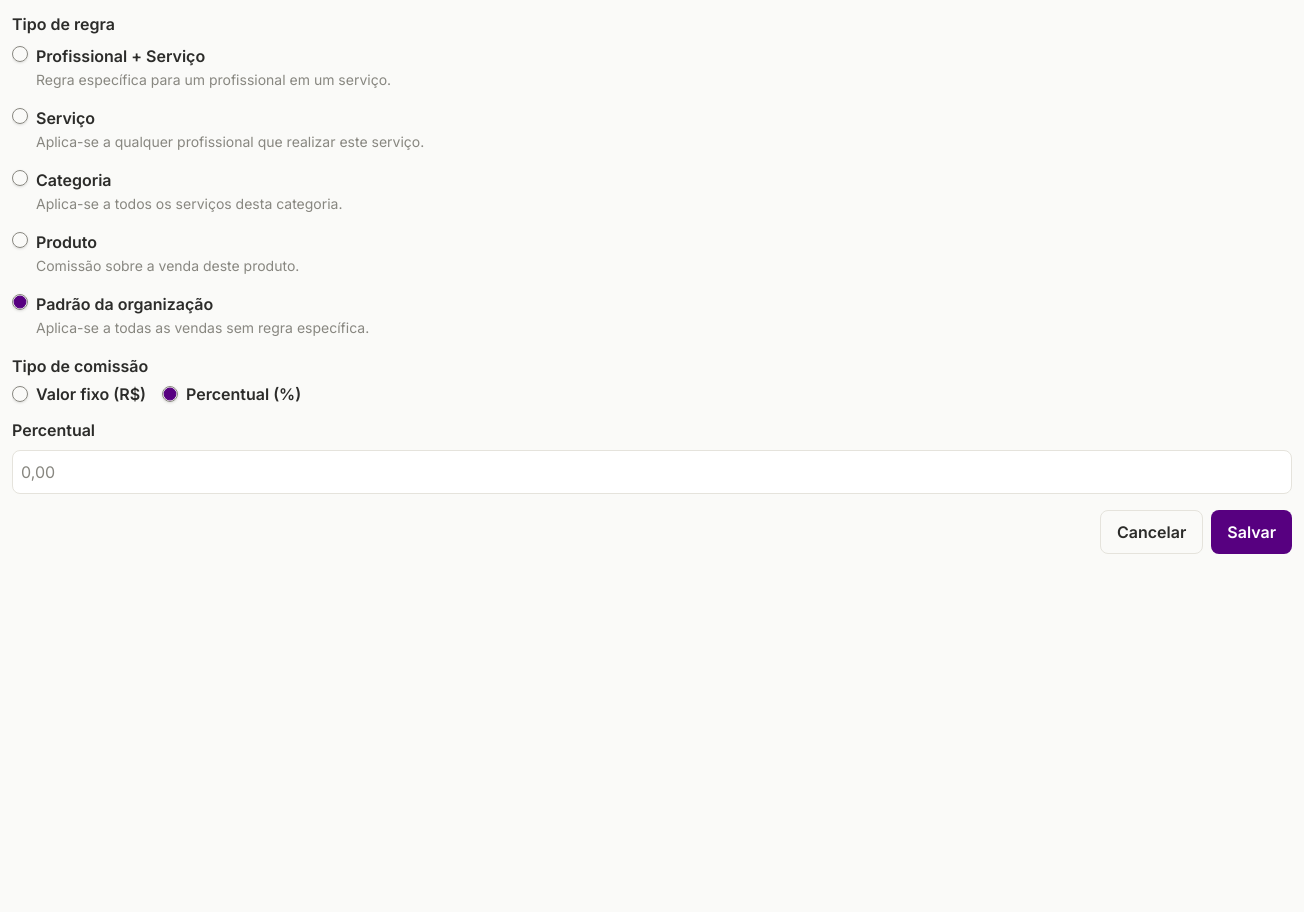
Test: CommissionRuleForm › 4. selecting scope category — category select appears
This screenshot has width=1304, height=912.
Click the 3rd radio button named "categoria" at (20, 178), box [12,170,28,186]
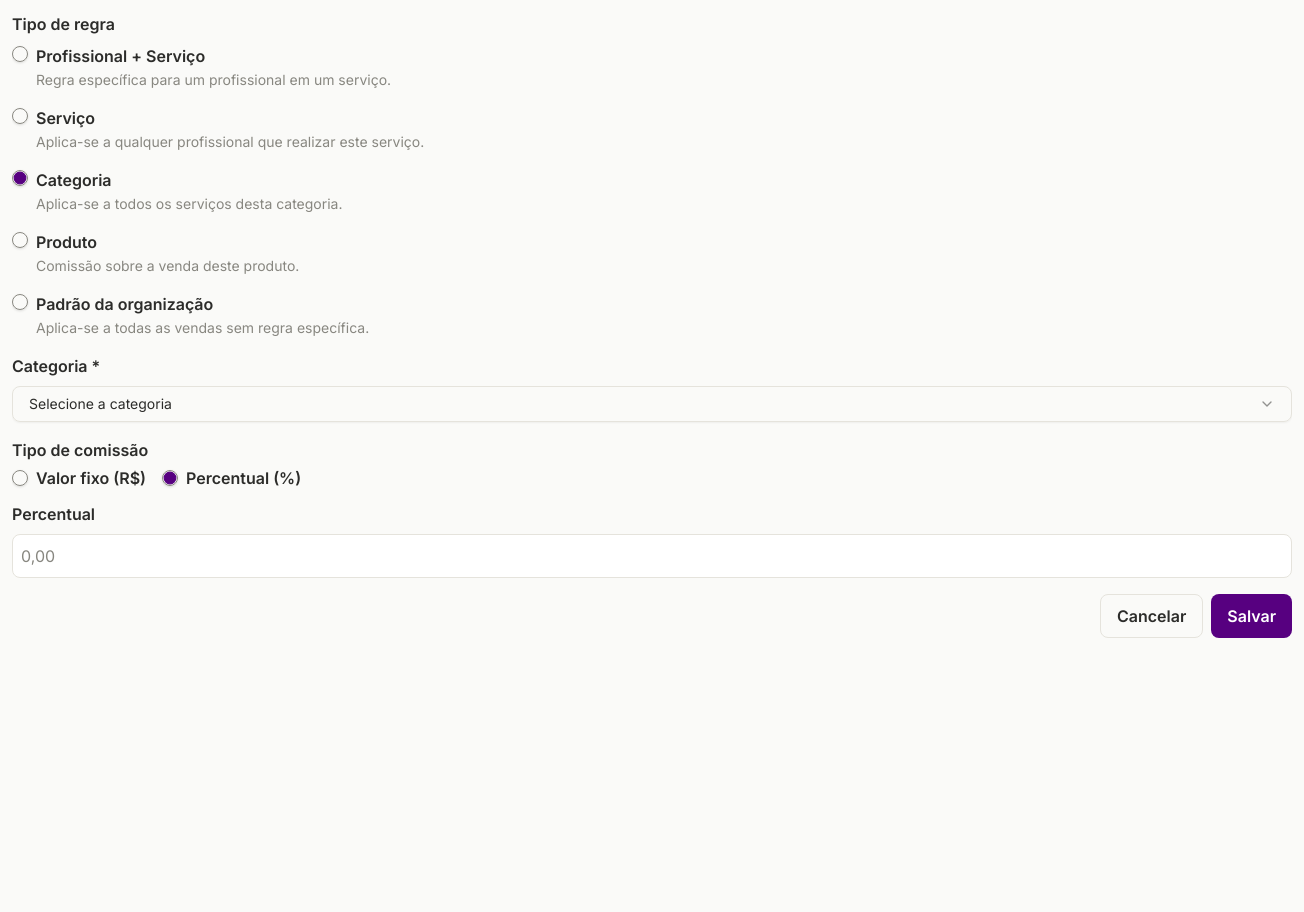
Now the text "Selecione a categoria" is shown, box [29,394,172,414]
